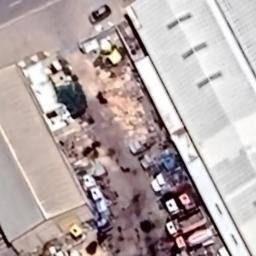SUV: (84, 0, 115, 26)
truck: (161, 210, 212, 236), (173, 226, 221, 250)
unknown: (163, 192, 198, 214)
